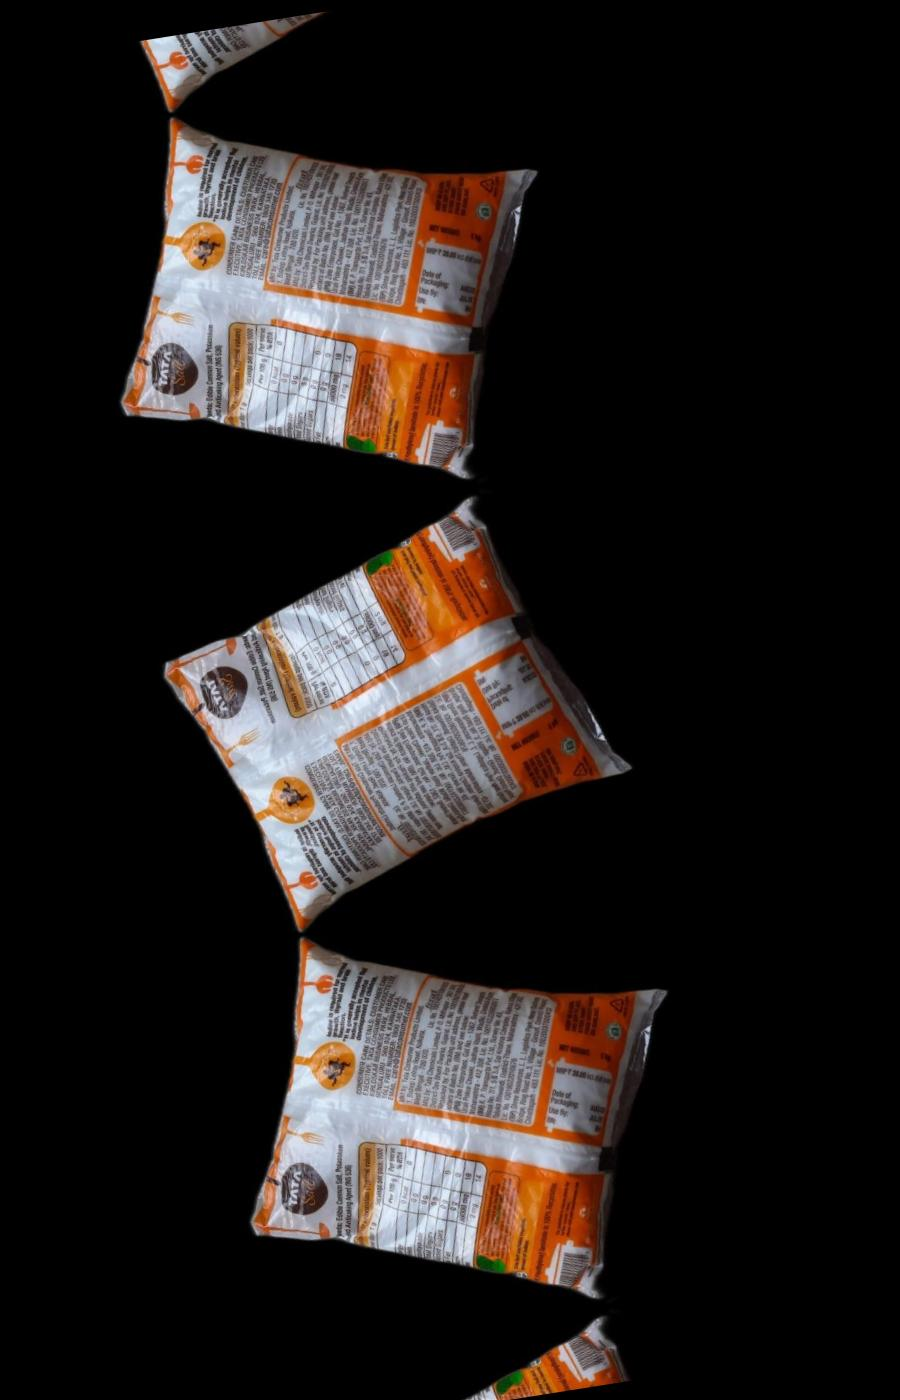Tata Salt Vacuum Evaporated Iodised Salt 1 kg Pouch: (141, 473, 649, 941), (76, 66, 584, 534), (206, 887, 714, 1354)
